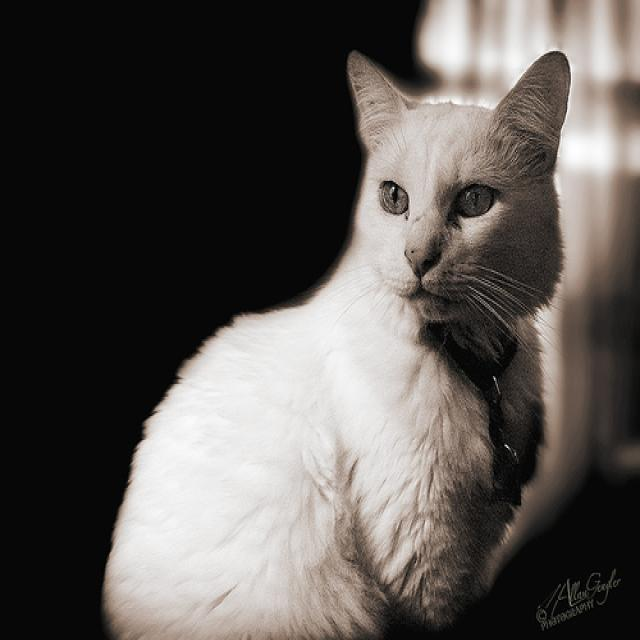cat: (101, 48, 572, 640)
